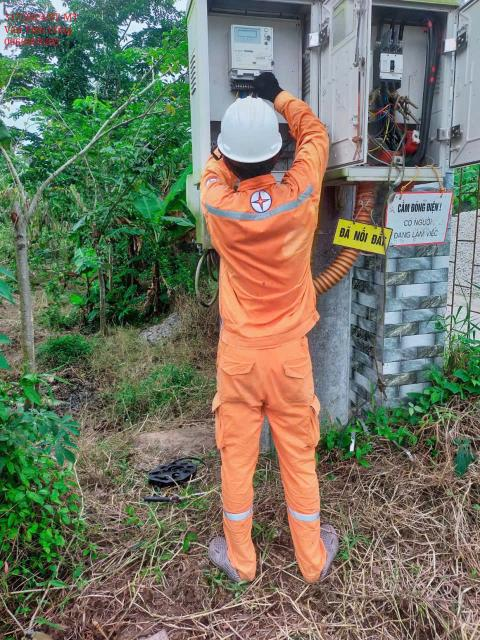gloves: (252, 67, 293, 109)
helmet: (211, 98, 297, 170)
shoes: (292, 516, 343, 588), (192, 524, 249, 583)
